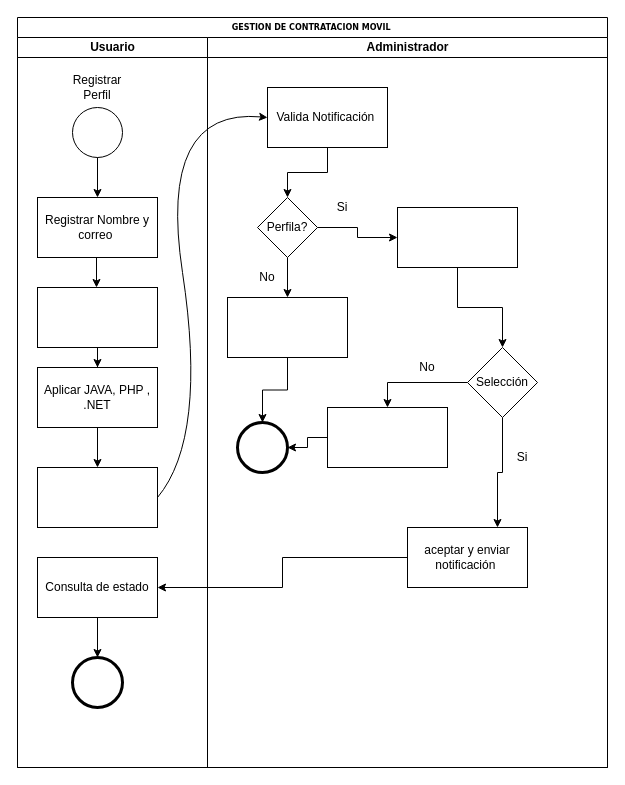
Image size: 625x785. Some labels were removed from this diagram. The shapes that lost their labels are listed below. From the top down, each one's centre as x and y in pixels, then its label:
At point 457,237: "Consulta de perfilados".
At point 97,317: "Diligencias formulario con datos correspondientes".
At point 287,327: "Notificar Mensaje".
At point 387,437: "Eliminar registros".
At point 97,497: "Adjuntar Hoja de vida".
